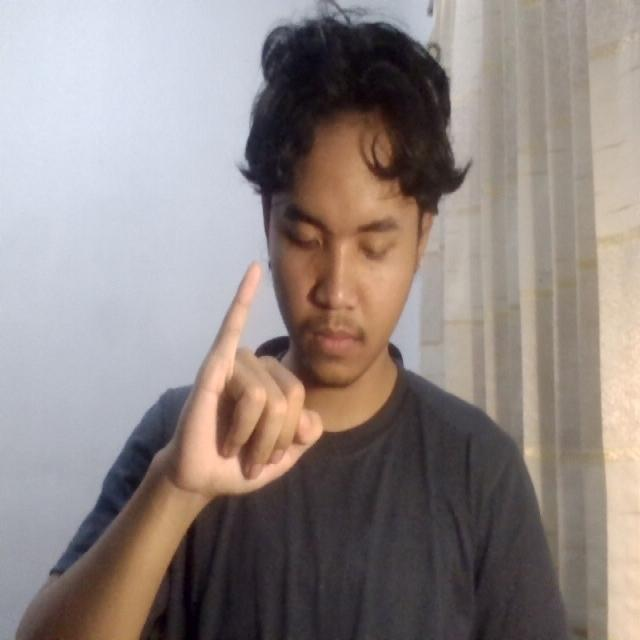Hello: (131, 236, 340, 517)
